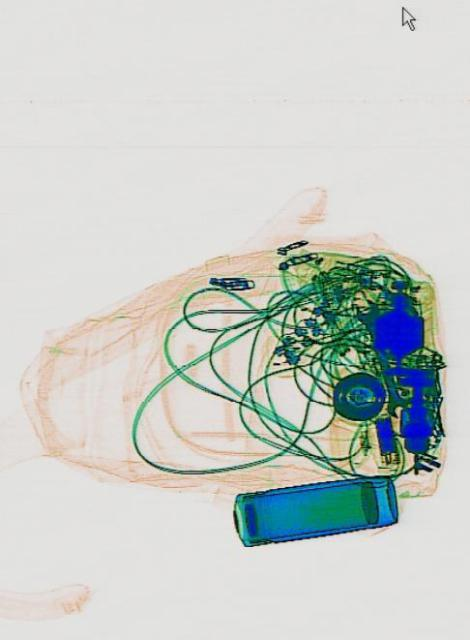Wrench: (350, 294, 409, 420)
